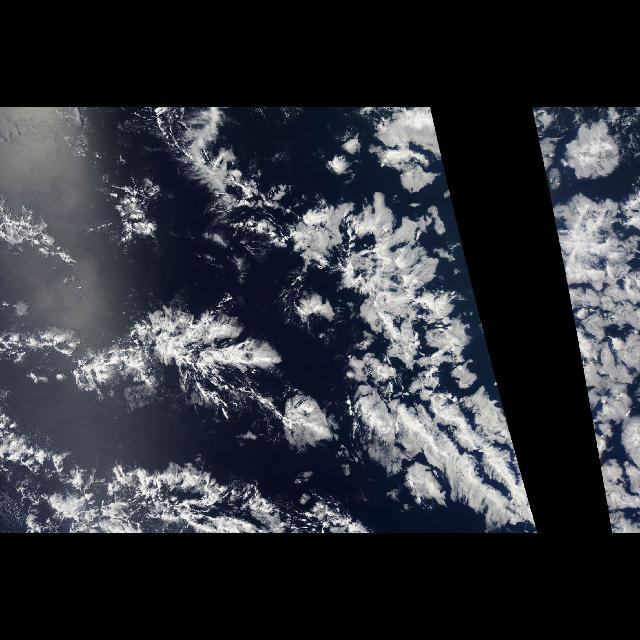Fish: (5, 107, 528, 533)
Flower: (220, 163, 480, 391), (546, 114, 638, 220)
